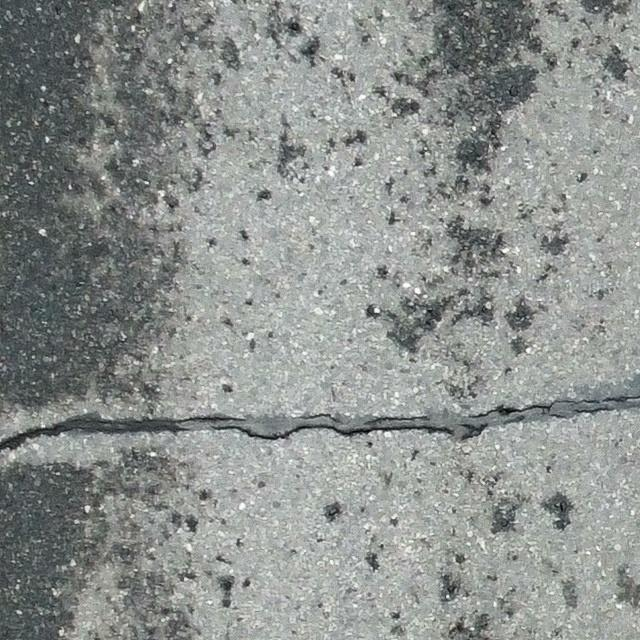TransverseCrack: (1, 394, 640, 450)
